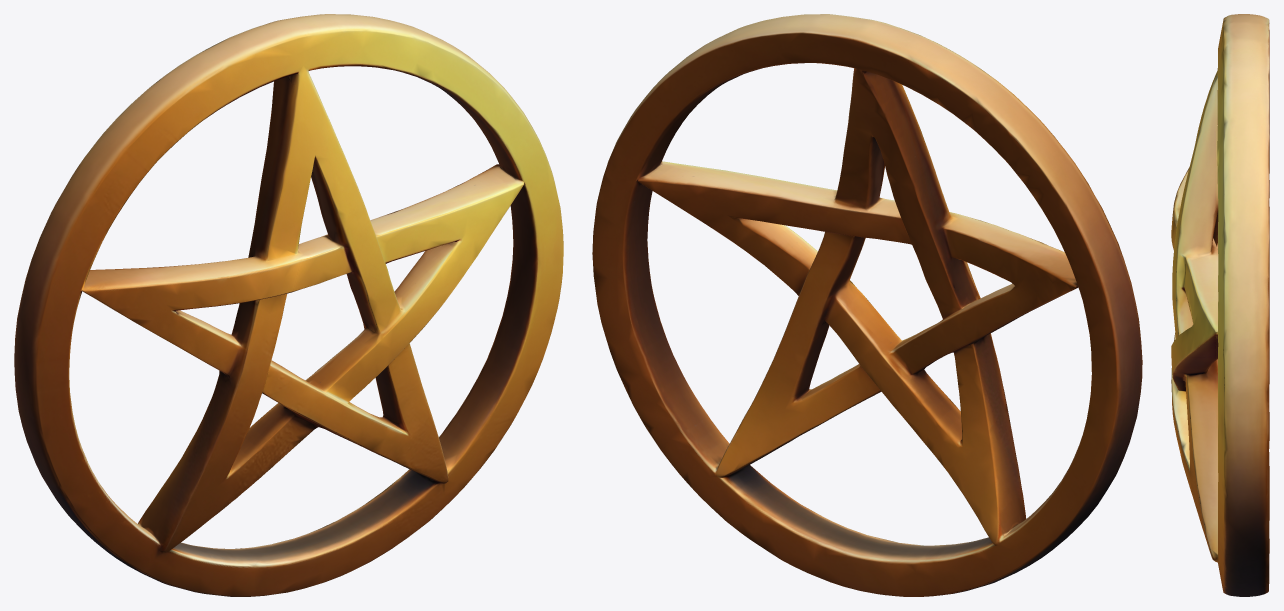
Rendered from pentagrama.glb.
The picture shows the model from 3 angles, left to right: view 1: azimuth 30°, elevation 25°; view 2: azimuth 150°, elevation 25°; view 3: azimuth 270°, elevation 25°; orthographic projection. The views are drawn at different scales.
Visible parts, largest first — view 1: tripo_node_6f418324-5bfb-4df9-a4b1-9a6930e10bd3; view 2: tripo_node_6f418324-5bfb-4df9-a4b1-9a6930e10bd3; view 3: tripo_node_6f418324-5bfb-4df9-a4b1-9a6930e10bd3.
Boxes of the visible parts, x1,y1,x2,y2 form: tripo_node_6f418324-5bfb-4df9-a4b1-9a6930e10bd3: [14, 14, 563, 596]; tripo_node_6f418324-5bfb-4df9-a4b1-9a6930e10bd3: [592, 14, 1142, 596]; tripo_node_6f418324-5bfb-4df9-a4b1-9a6930e10bd3: [1171, 14, 1269, 596].
Bounding box in the file's own units: 0.9773 × 0.979 × 0.1649.
1 material, 1 textured.
